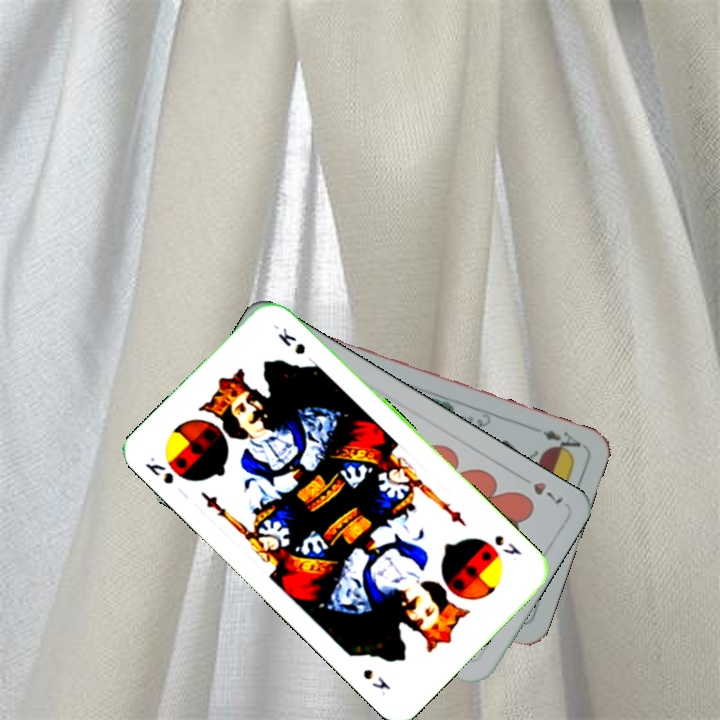EA: (539, 426, 584, 457)
H7: (528, 477, 566, 507)
SK: (141, 452, 176, 487), (490, 531, 525, 558)
